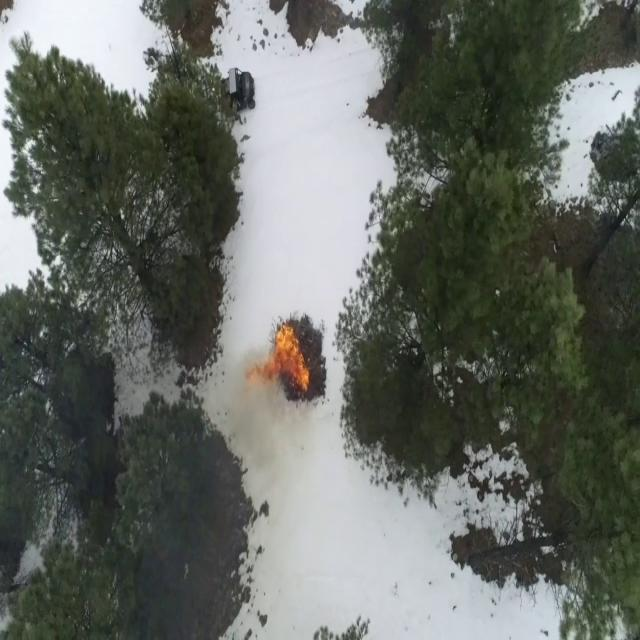fire: (253, 327, 309, 398)
